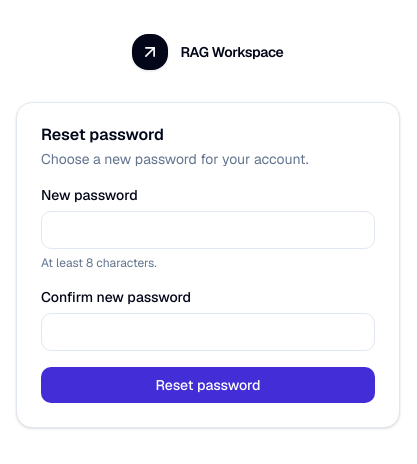
Test case: ResetPasswordPage › shows the backend's error message for an invalid token
Type "a brand new password" into the password field labelled "New password" at [208, 230], box [41,211,375,249]
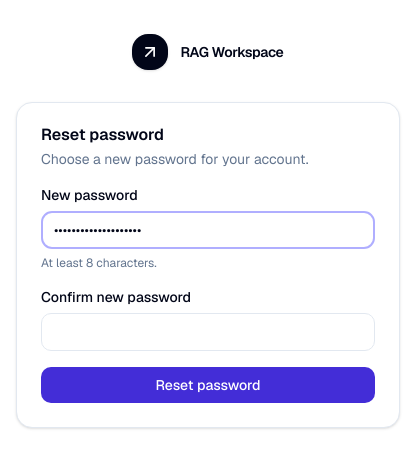
Type "a brand new password" into the password field labelled "Confirm new password" at [208, 332], box [41,313,375,351]
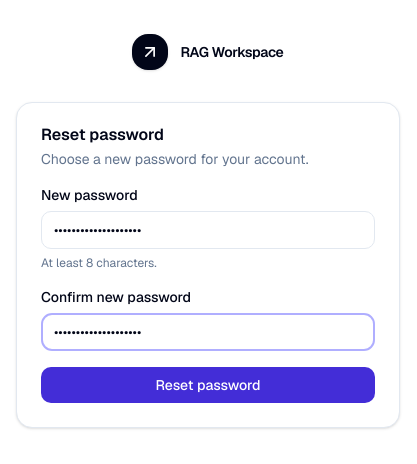
Click the button "Reset password" at [208, 385], box [41,367,375,403]
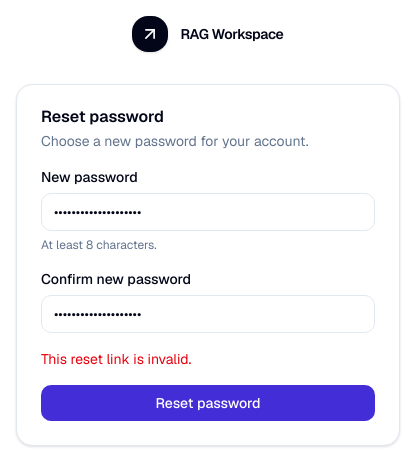
Now the text "This reset link is invalid." is shown, box [41,350,191,368]
